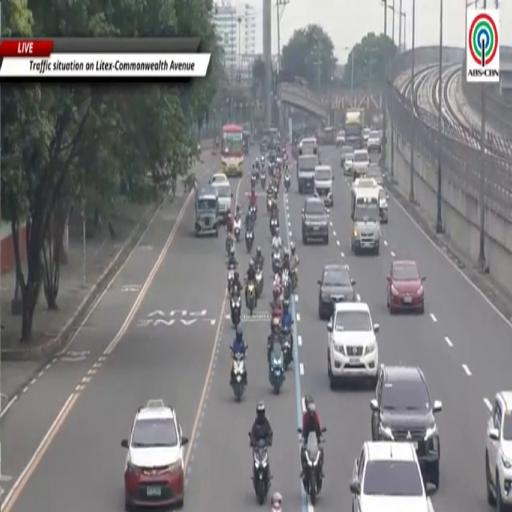bus: (221, 124, 244, 177), (263, 127, 279, 150)
car: (371, 365, 442, 488), (122, 399, 188, 510), (351, 442, 435, 511), (327, 302, 379, 389), (486, 391, 511, 510), (318, 264, 356, 319), (387, 261, 425, 313), (302, 198, 329, 245), (212, 182, 233, 221), (353, 150, 369, 175), (365, 163, 383, 185), (379, 186, 389, 223), (340, 146, 353, 169), (367, 131, 381, 152), (343, 153, 354, 175), (212, 173, 228, 183), (336, 131, 345, 146), (363, 127, 371, 142)
jeepney: (195, 185, 219, 236)
motorcycle: (303, 432, 322, 505), (252, 440, 270, 505), (231, 350, 247, 402), (270, 343, 285, 393), (246, 281, 257, 315), (282, 330, 291, 370), (230, 294, 241, 326), (282, 268, 291, 299), (272, 250, 281, 274), (256, 267, 263, 297), (245, 231, 254, 252), (228, 267, 235, 294), (270, 217, 279, 237), (271, 308, 282, 324), (234, 219, 241, 242), (225, 234, 233, 254), (249, 205, 257, 223), (291, 267, 297, 291), (260, 171, 266, 189), (284, 173, 290, 191), (267, 196, 273, 213), (251, 174, 257, 188)
truck: (297, 155, 318, 194), (345, 109, 363, 149)
